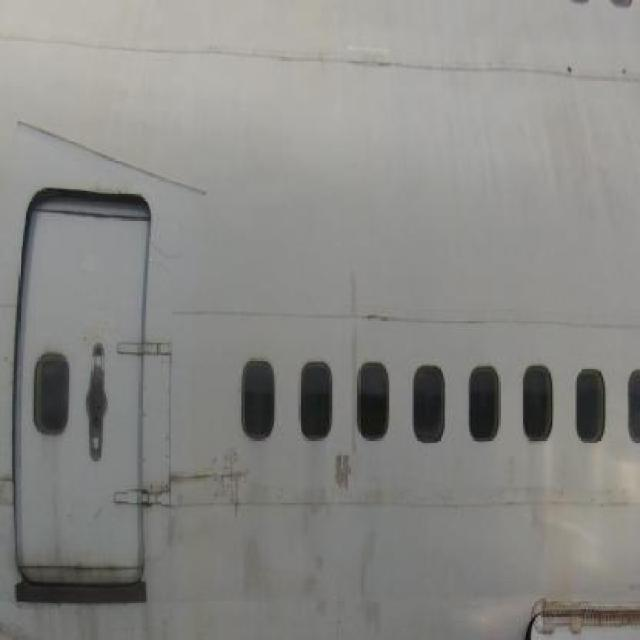Scartch: (314, 442, 372, 508), (343, 258, 362, 448)
